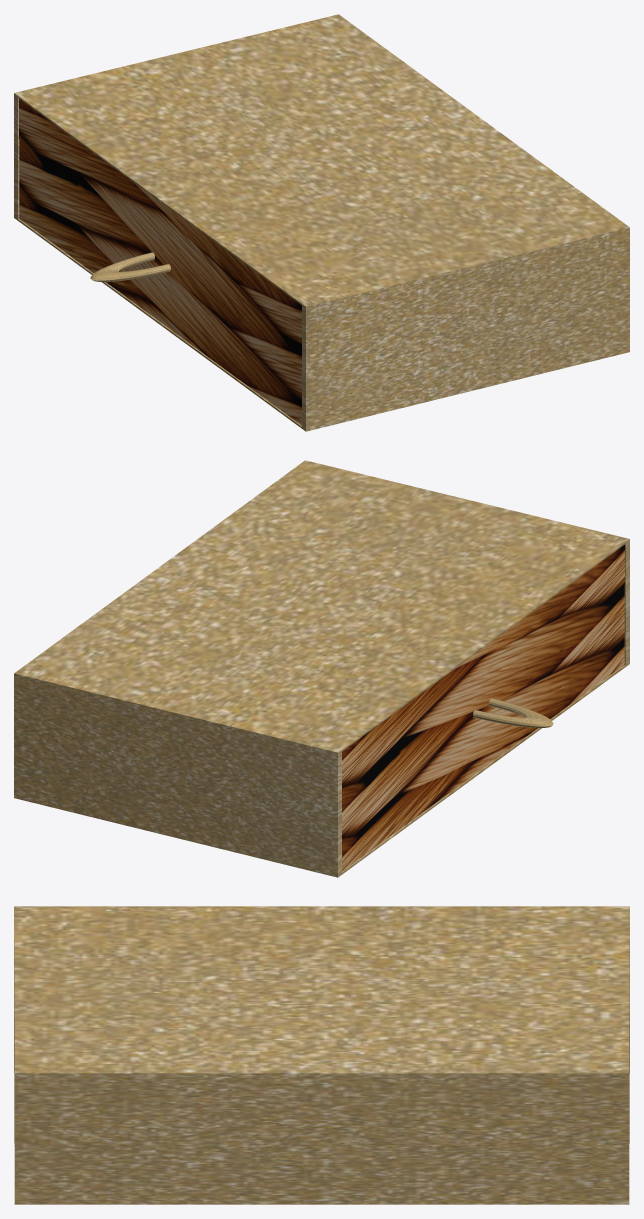
The model's file is Model12Second.gltf.
3 views of the same model, one above another, from view 1: azimuth 30°, elevation 25°; view 2: azimuth 150°, elevation 25°; view 3: azimuth 270°, elevation 25° (orthographic). The views are drawn at different scales.
Parts seen in each view (by area): view 1: Cube, Cube.001, Torus; view 2: Cube, Cube.001, Torus; view 3: Cube.
Boxes of the visible parts, x1,y1,x2,y2 form: Cube: (14,14,629,431); Cube.001: (19,98,301,425); Torus: (90,252,170,281); Cube: (14,460,629,877); Cube.001: (342,544,624,871); Torus: (473,698,553,727); Cube: (14,906,629,1204).
Bounding box in the file's own units: 3.49 × 1.06 × 4.49.
3 materials, 3 textured.
